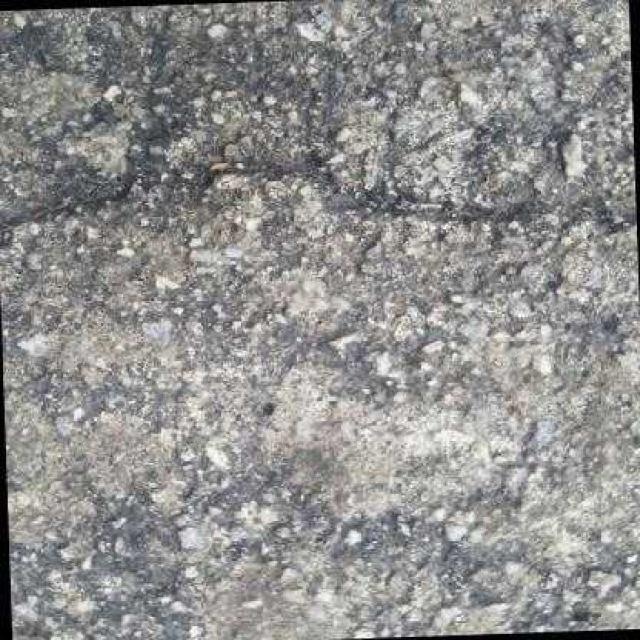D00: (13, 164, 637, 234)
